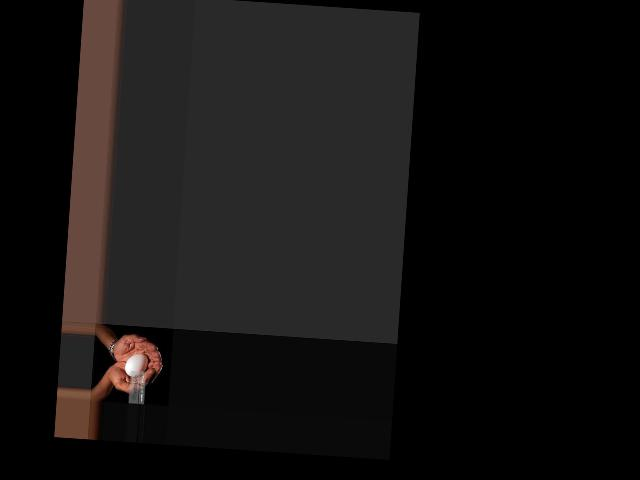egg: (124, 352, 149, 377)
